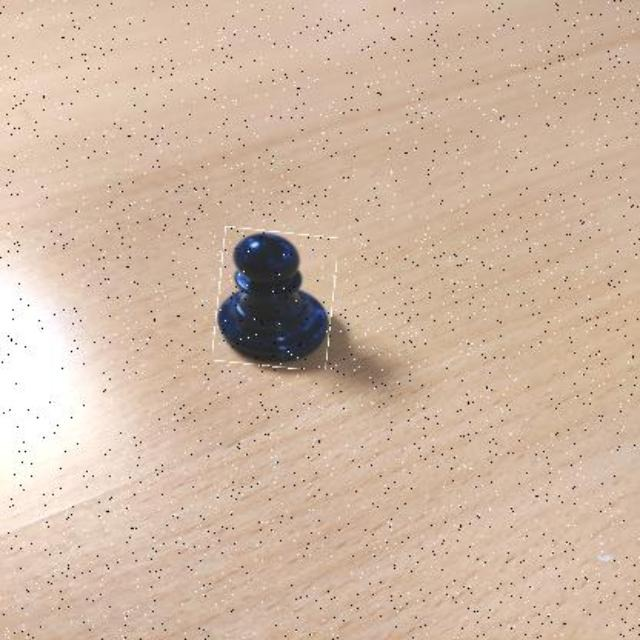black-pawn: (215, 230, 335, 368)
